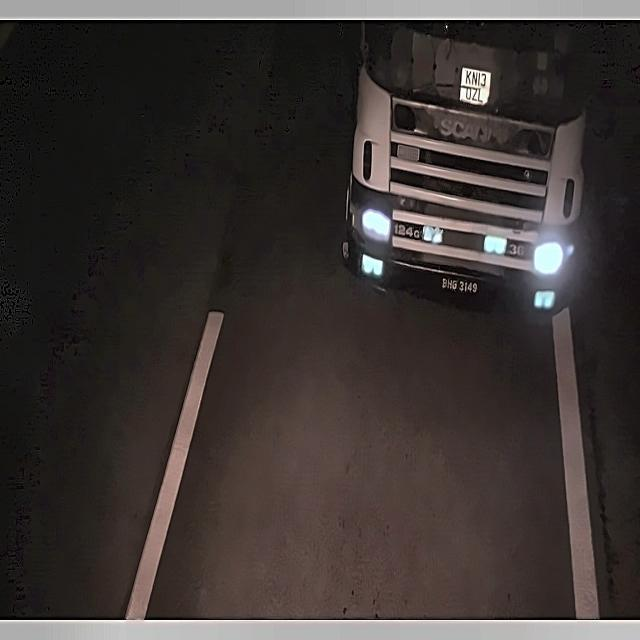car: (428, 258, 492, 309)
